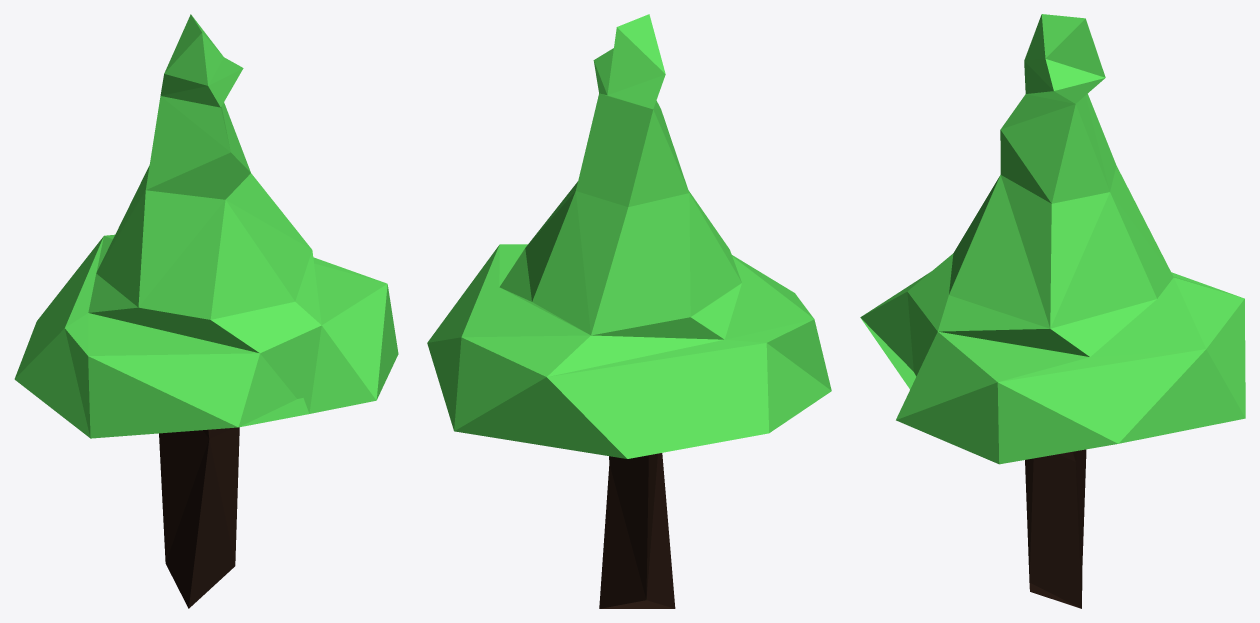
Rendered from Tree_T1.fbx.
3 renders of one model, left to right at view 1: azimuth 30°, elevation 25°; view 2: azimuth 150°, elevation 25°; view 3: azimuth 270°, elevation 25°, orthographic. The views are drawn at different scales.
Parts seen in each view (by area): view 1: Tree_T1; view 2: Tree_T1; view 3: Tree_T1.
Boxes of the visible parts, left/top/right/bottom form: Tree_T1: left=14, top=14, right=398, bottom=608; Tree_T1: left=427, top=14, right=831, bottom=608; Tree_T1: left=860, top=14, right=1245, bottom=608.
Bounding box in the file's own units: 198 × 328 × 195.
